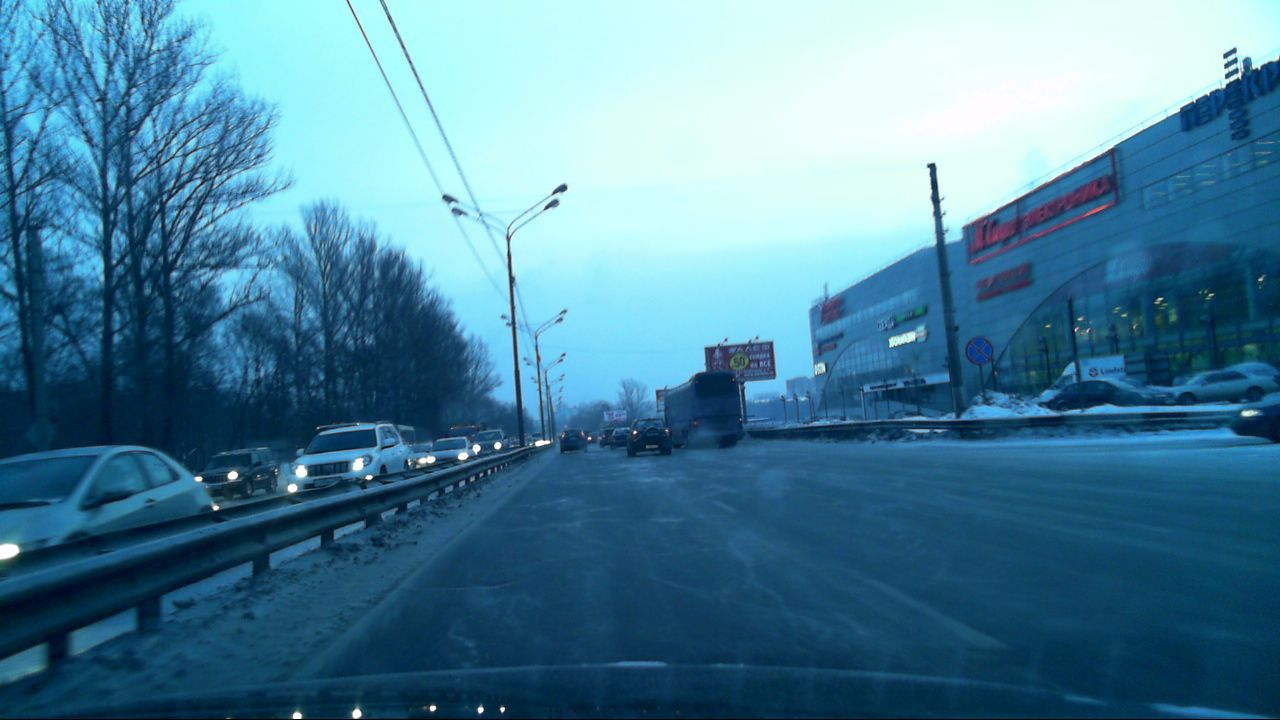No Parking: (964, 336, 993, 366)
